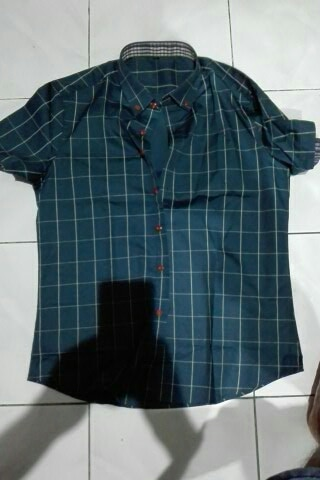shirts: (16, 48, 319, 422)
